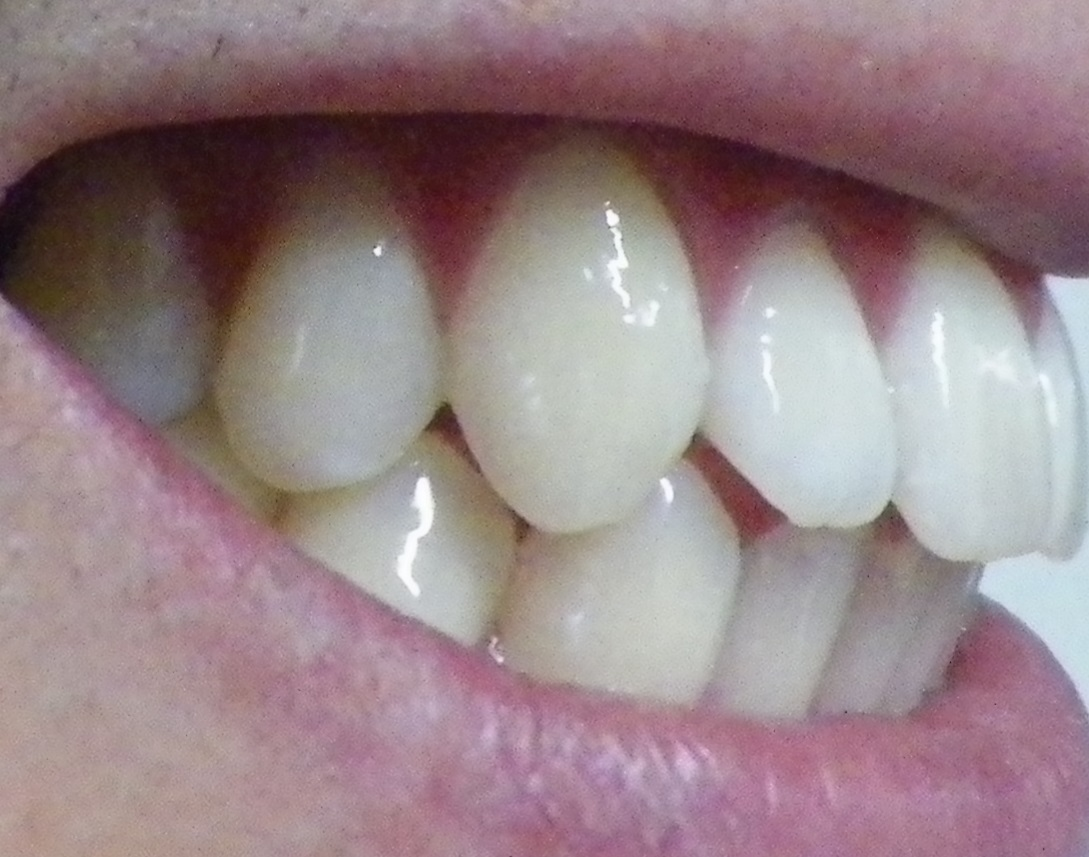boca: (8, 142, 1086, 721)
